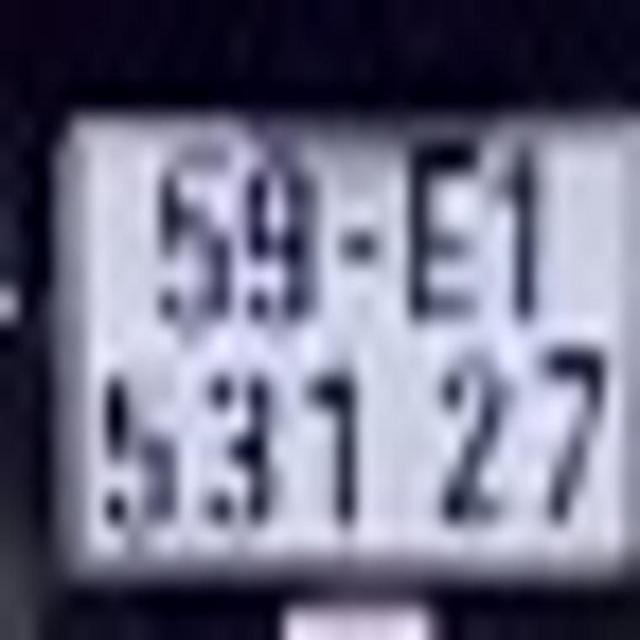1: (311, 368, 369, 524), (508, 148, 551, 330)
2: (437, 356, 499, 528)
3: (194, 370, 282, 537)
5: (98, 376, 182, 537), (160, 144, 228, 333)
7: (540, 330, 606, 529)
9: (244, 155, 322, 335)
E: (410, 140, 480, 316)
